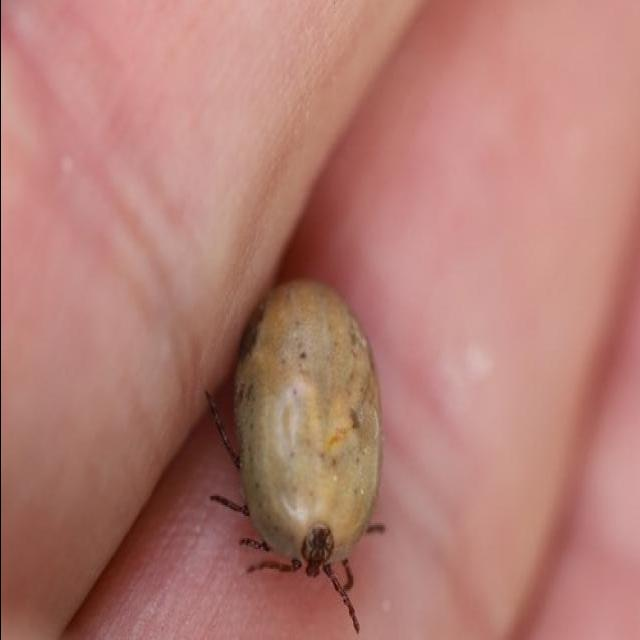Dermacentor Reticulatus-F-Fed: (204, 279, 385, 635)
